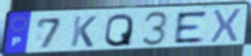3: (141, 10, 170, 47)
7: (36, 16, 63, 50)
E: (173, 9, 209, 45)
K: (69, 15, 99, 49)
Q: (102, 12, 135, 49)
X: (208, 7, 244, 45)
